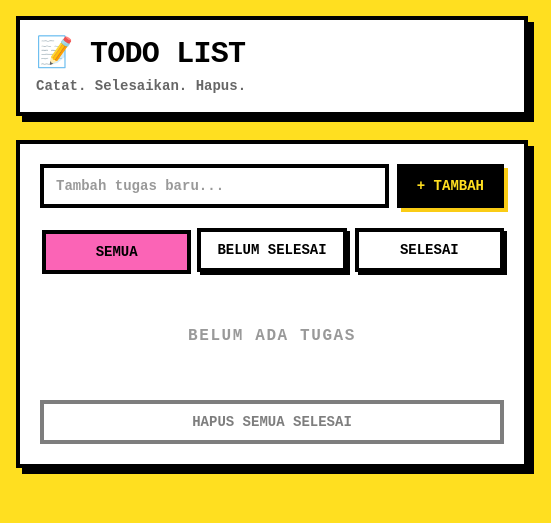
Test: App integration tests › filter flow: add tasks, toggle some, check each filter shows correct tasks
Type "Task aktif" into the field named "judul tugas".
click(214, 186); type("Task aktif")  # box [40,164,389,208]
Click the button "+ Tambah".
click(450, 186)  # box [397,164,504,208]
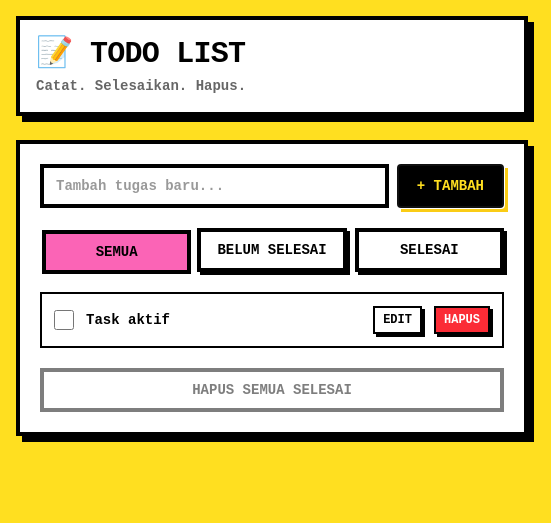
Type "Task selesai" into the field named "judul tugas".
click(214, 186); type("Task selesai")  # box [40,164,389,208]
Click the button "+ Tambah".
click(450, 186)  # box [397,164,504,208]
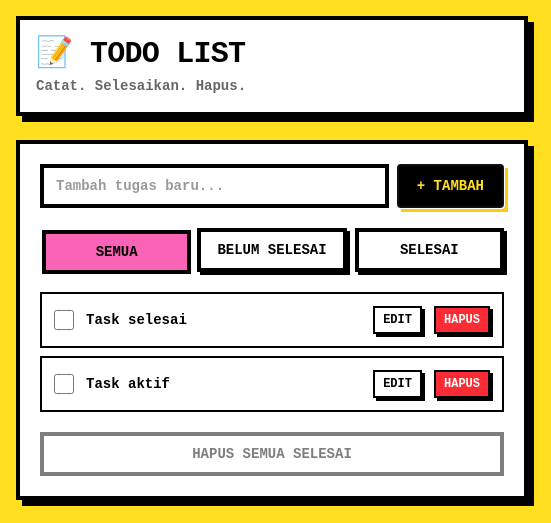
Click the checkbox named "tandai selesai: task selesai".
click(64, 320)  # box [54,310,74,330]
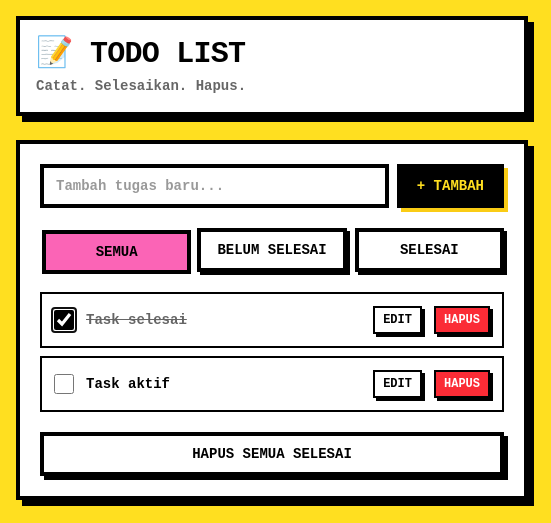
Click the button "Semua".
click(117, 252)  # box [42,230,191,274]
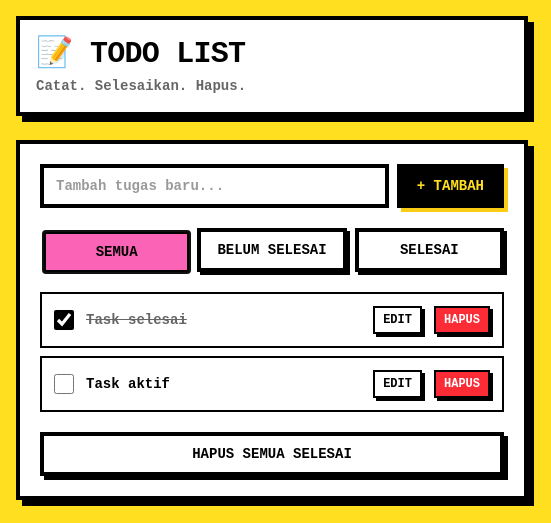
expect the text "Task aktif" is shown: met, box [86,376,170,392]
expect the text "Task selesai" is shown: met, box [86,312,187,328]
Click the button "Belum Selesai".
click(272, 250)  # box [197,228,347,272]
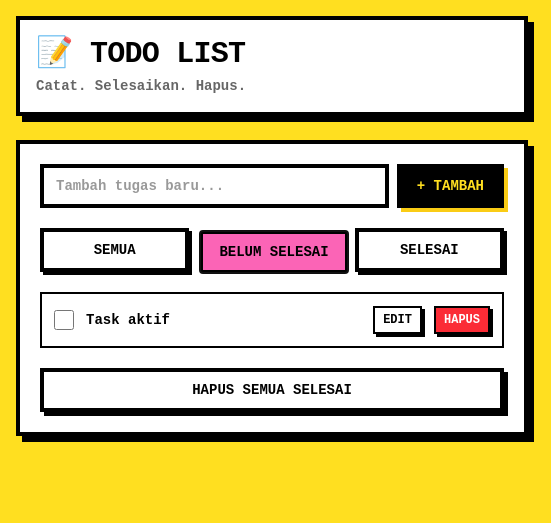
expect the text "Task aktif" is shown: met, box [86,312,170,328]
expect the text "Task selesai" is gone: met
Click the button "Selesai".
click(429, 250)  # box [355,228,504,272]
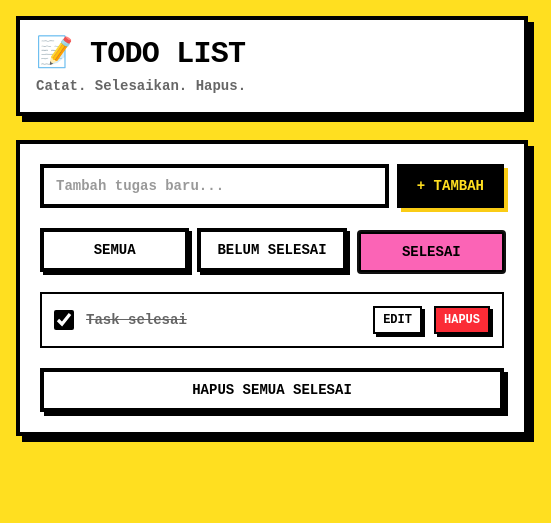
expect the text "Task aktif" is gone: met
expect the text "Task selesai" is shown: met, box [86,312,187,328]
